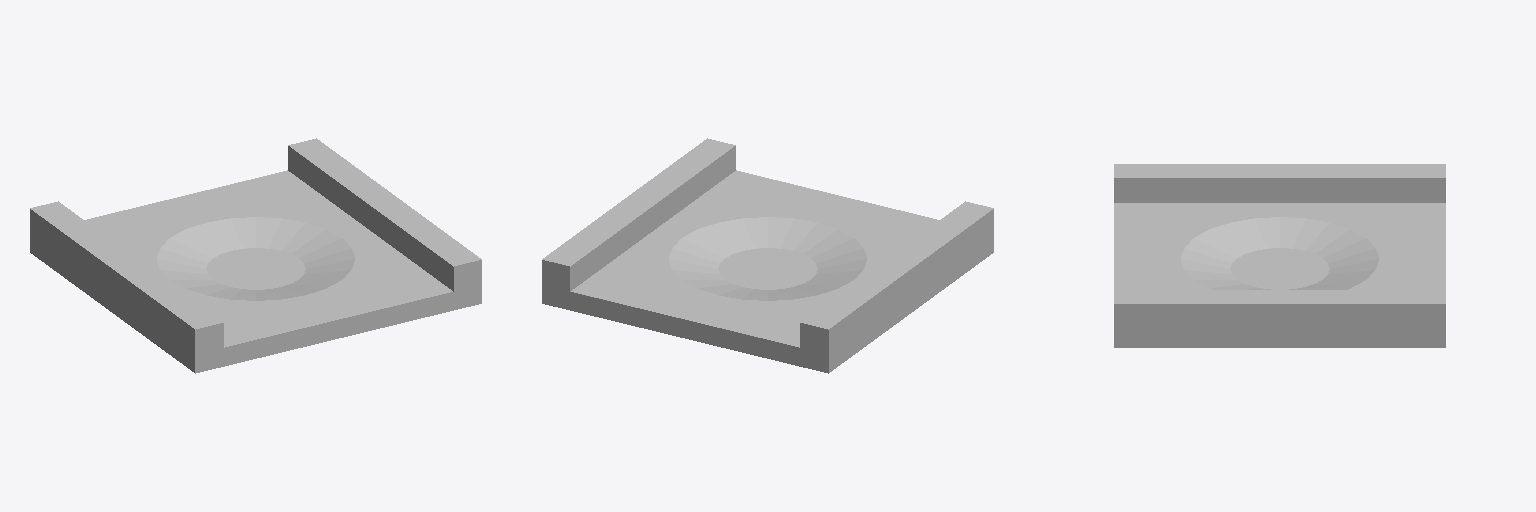
File: bumpDownWalls.obj
3 views of the same model, side by side, from view 1: azimuth 30°, elevation 25°; view 2: azimuth 150°, elevation 25°; view 3: azimuth 270°, elevation 25° (orthographic).
Visible parts, largest first — view 1: bumpDownWalls; view 2: bumpDownWalls; view 3: bumpDownWalls.
Part boxes in pixels (left/top/right/bottom): bumpDownWalls: left=30, top=138, right=481, bottom=373; bumpDownWalls: left=542, top=138, right=993, bottom=373; bumpDownWalls: left=1114, top=164, right=1445, bottom=347.
Bounding box in the file's own units: 0.9999 × 0.1467 × 0.9999.